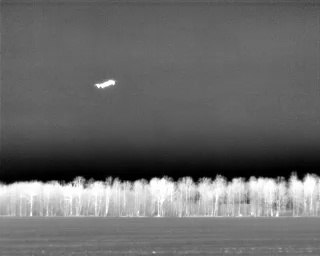DRONE: (91, 74, 120, 94)
